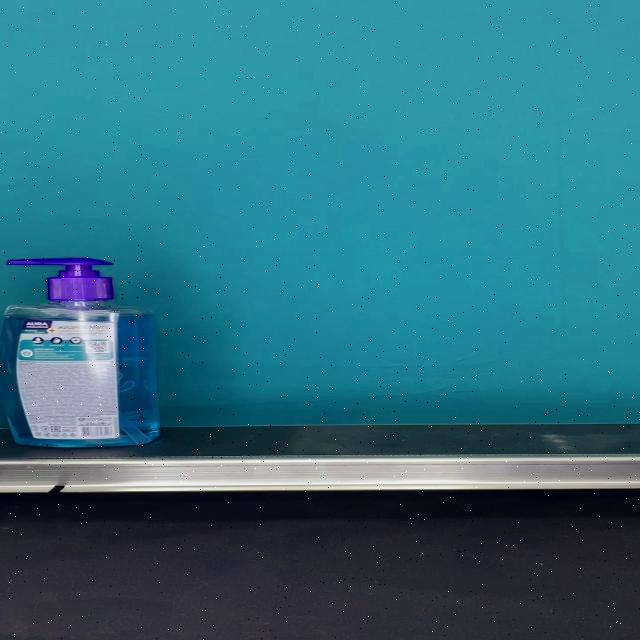Bottle: (0, 257, 161, 447)
Cap: (7, 258, 111, 300)
